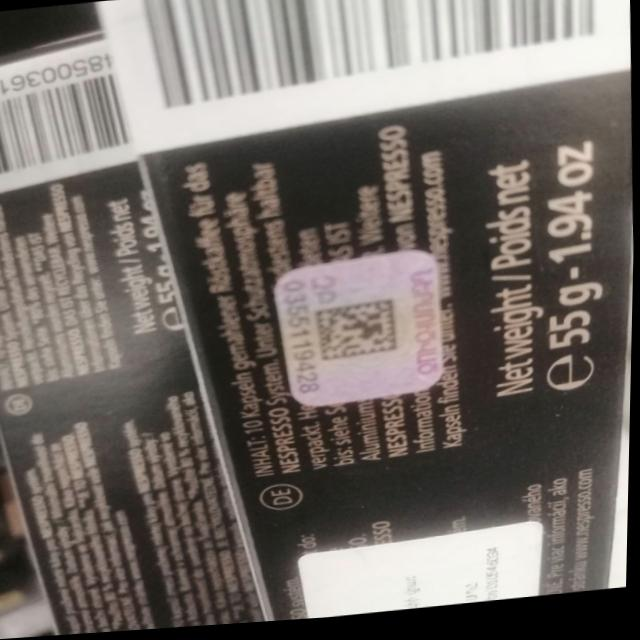datamatrix: (315, 301, 408, 368)
